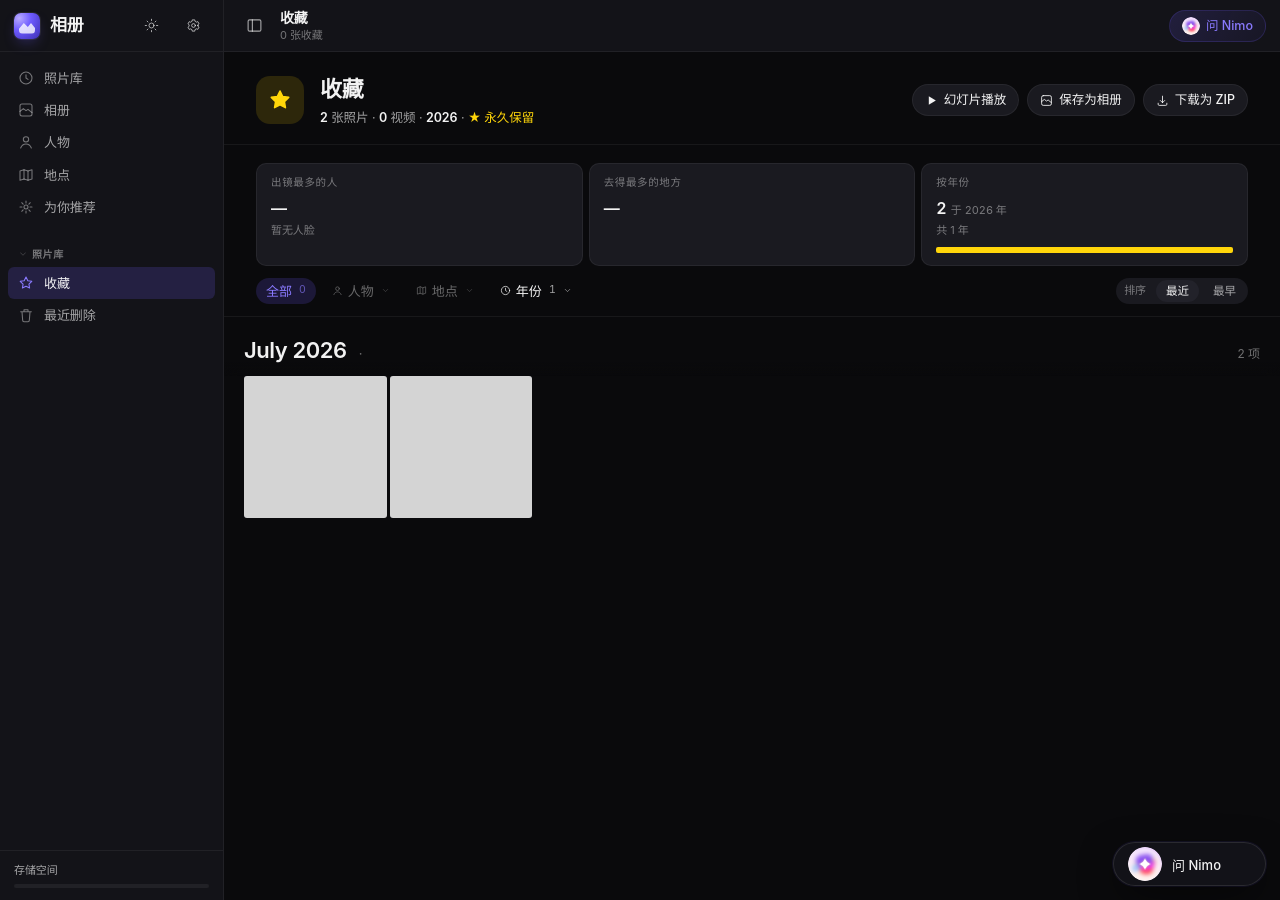
Test case: PhotosFavorites.vue › Save as album › re-skinned onto Vue2's .fav-modal* anchors: icon tile, exact title/label copy, ghost+primary footer buttons, .fav-modal-scrim backdrop
The image size is (1280, 900).
Click the button with test id "fav-save-album-btn". click: click(1081, 100)
box: [1027,84,1135,116]
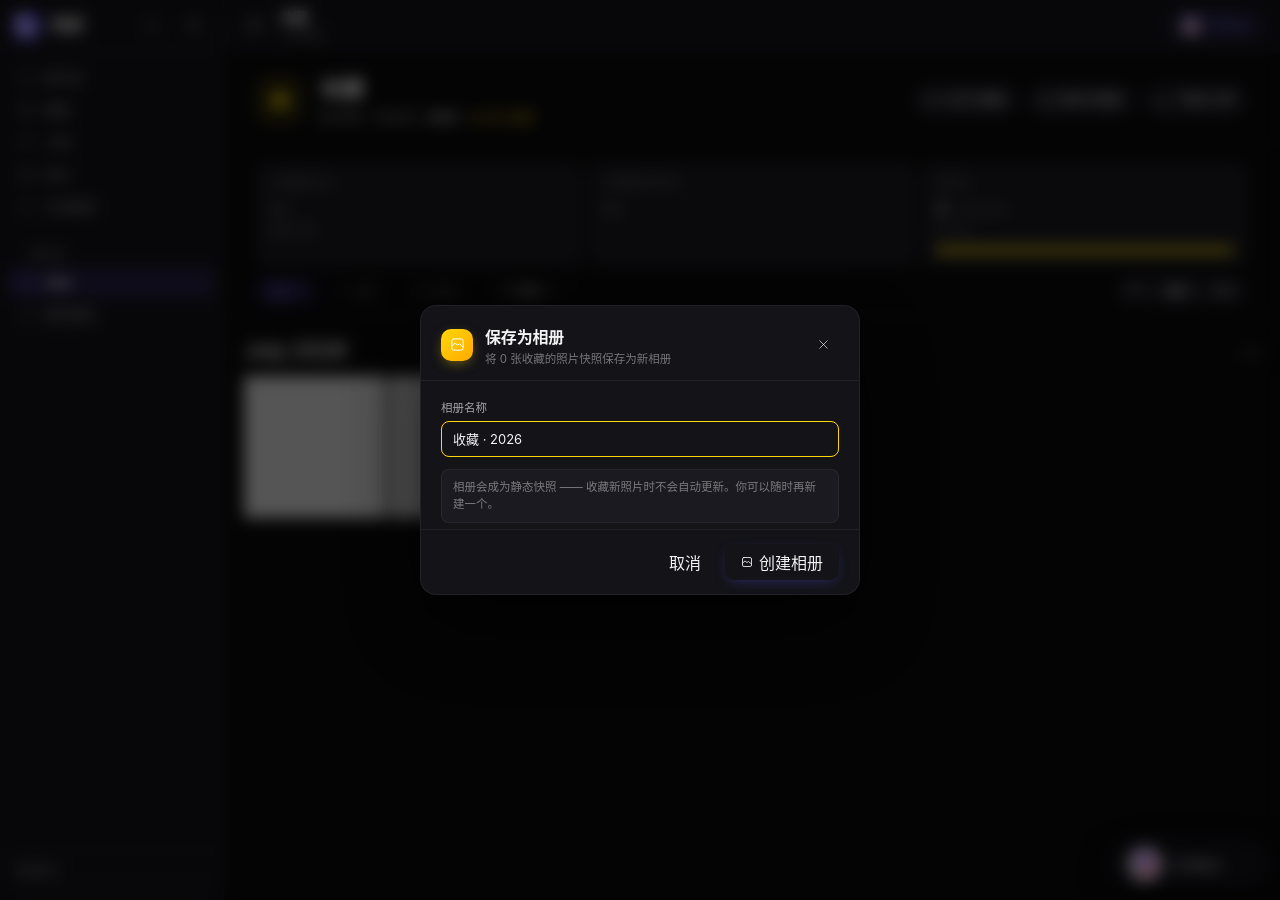
Expected: the element with class "fav-modal-scrim" is shown
Expected: the element with class "fav-modal" is shown, [420,305,860,595]
Expected: the icon with class "fav-modal-icon" is shown, [441,329,473,361]
